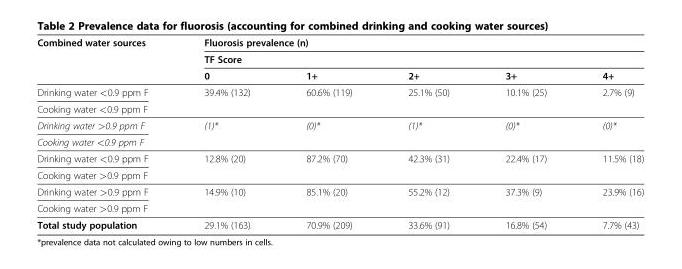table: (36, 36, 643, 230)
table column: (36, 36, 175, 230), (175, 36, 277, 230), (277, 36, 379, 230), (379, 36, 476, 230), (476, 36, 573, 230), (573, 36, 643, 230)
table column header: (36, 36, 643, 83)
table row: (36, 50, 643, 67), (36, 83, 643, 100), (36, 116, 643, 133), (36, 149, 643, 166), (36, 166, 643, 183), (36, 199, 643, 216), (36, 67, 643, 83), (36, 100, 643, 116), (36, 133, 643, 149), (36, 183, 643, 199), (36, 36, 643, 50), (36, 216, 643, 230)
table spanning cell: (175, 36, 643, 67), (36, 36, 175, 83), (175, 149, 277, 183), (277, 149, 379, 183), (175, 83, 277, 116), (277, 83, 379, 116), (175, 116, 277, 149), (277, 116, 379, 149), (175, 183, 277, 216), (277, 183, 379, 216), (379, 149, 476, 183), (476, 149, 573, 183), (379, 83, 476, 116), (476, 83, 573, 116), (379, 116, 476, 149), (476, 116, 573, 149), (379, 183, 476, 216), (476, 183, 573, 216), (573, 149, 643, 183), (573, 83, 643, 116), (573, 116, 643, 149), (573, 183, 643, 216)
